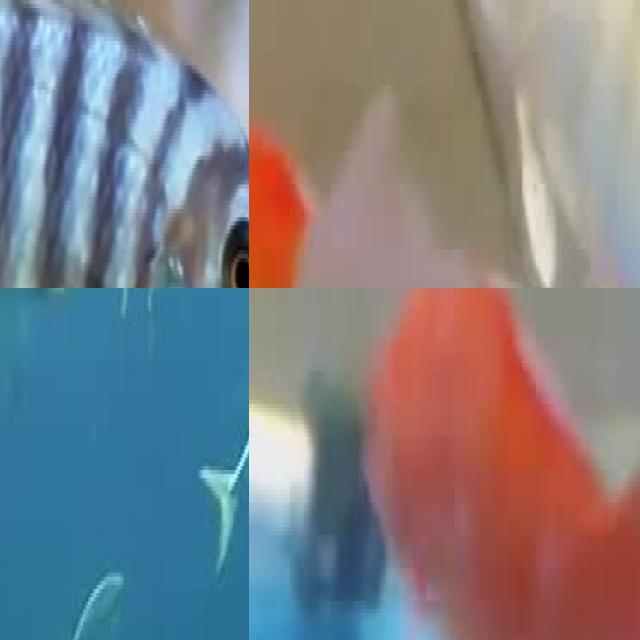fish: (350, 288, 640, 640), (0, 0, 249, 288), (249, 155, 640, 288)
